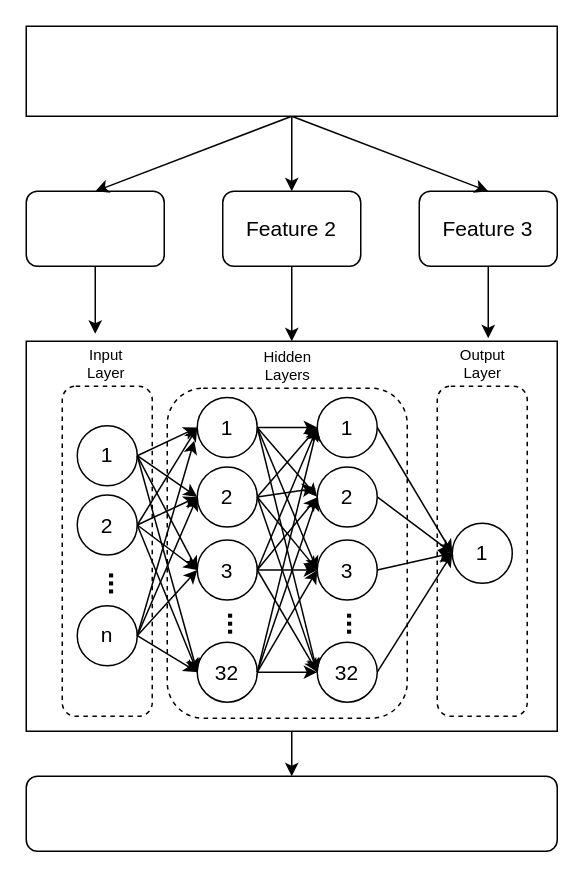
This 584x878 diagram has some shape labels left out. Here are the shapes that lost their labels. From the top down, the box of each, then its label:
(25, 25, 557, 116): Standard Scaler Data normalization
(25, 190, 164, 266): Feature 1
(25, 775, 557, 851): HDL Prediction
